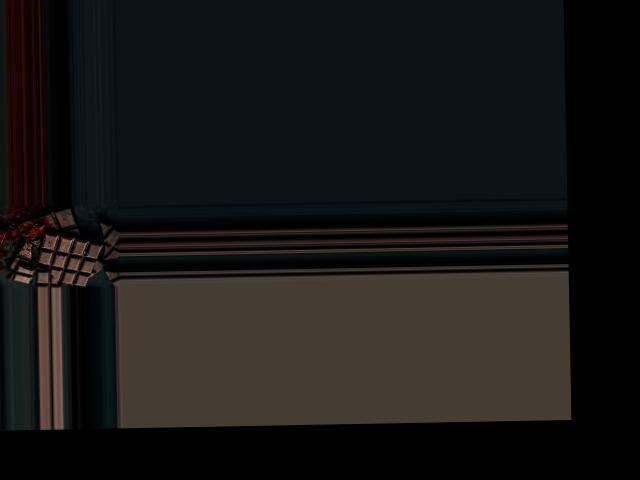chocolate: (37, 230, 105, 287)
